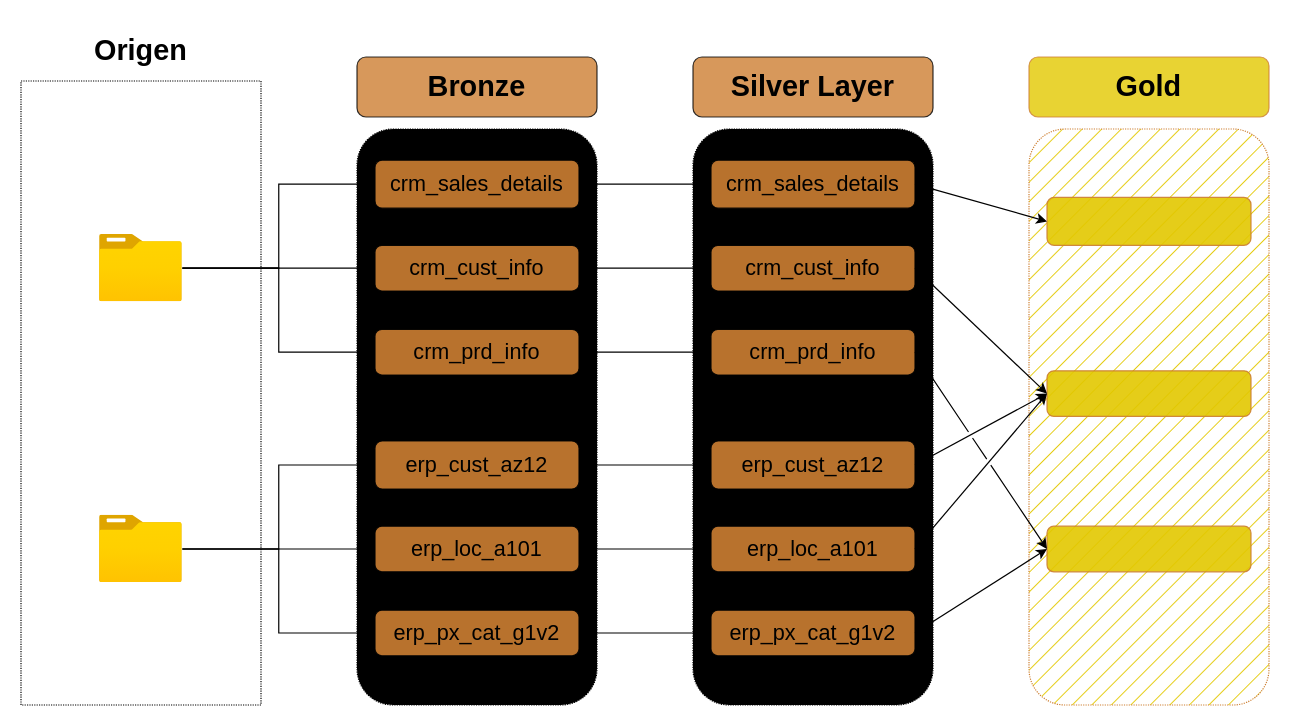
Image size: 1290x726. Some labels were removed from this diagram. The centre of each missing label's shape, as x and y in pixels:
"CRM" belongs at (140,267).
"dim_customer" belongs at (1148,393).
"dim_products" belongs at (1148,548).
"ERP" belongs at (140,548).
"fact_sales" belongs at (1148,220).
